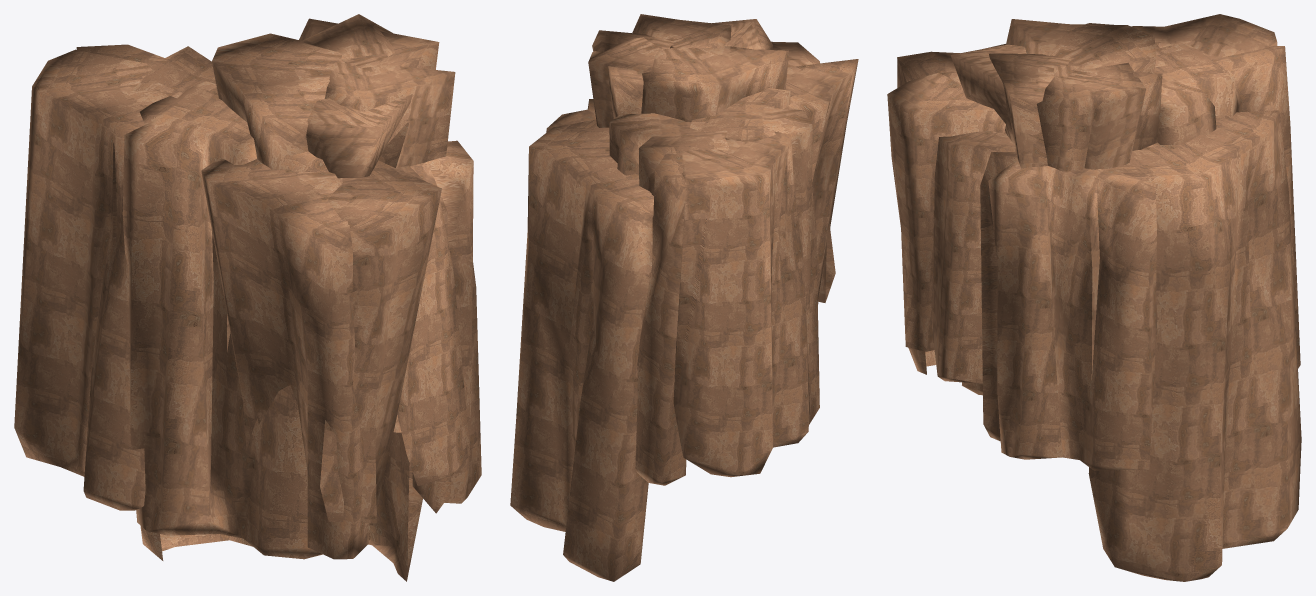
File: Ob_RockCliff03.fbx
3 renders of one model, left to right at view 1: azimuth 30°, elevation 25°; view 2: azimuth 150°, elevation 25°; view 3: azimuth 270°, elevation 25°, orthographic. The views are drawn at different scales.
Parts seen in each view (by area): view 1: Ob_RockCliff03; view 2: Ob_RockCliff03; view 3: Ob_RockCliff03.
Boxes of the visible parts, left/top/right/bottom form: Ob_RockCliff03: left=14, top=14, right=481, bottom=581; Ob_RockCliff03: left=510, top=14, right=858, bottom=581; Ob_RockCliff03: left=887, top=14, right=1301, bottom=581.
Size of the model in its own units: 165926 by 252261 by 198780.
